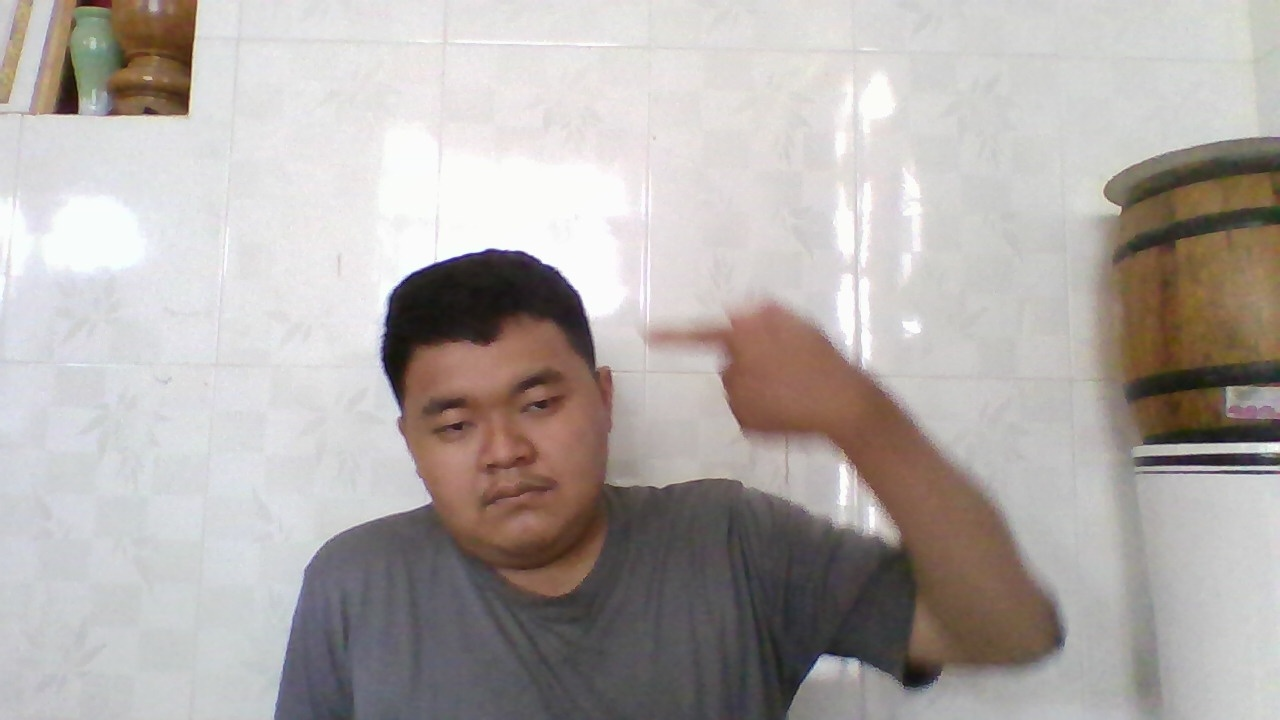G: (634, 304, 862, 432)
